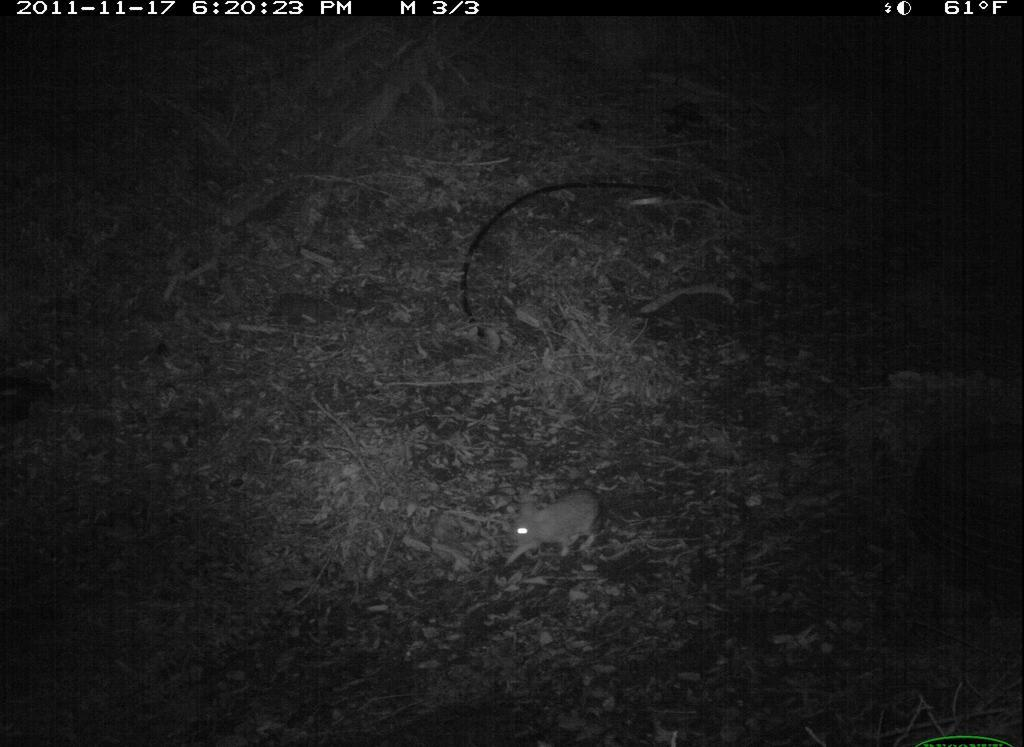rabbit: (492, 492, 611, 562)
